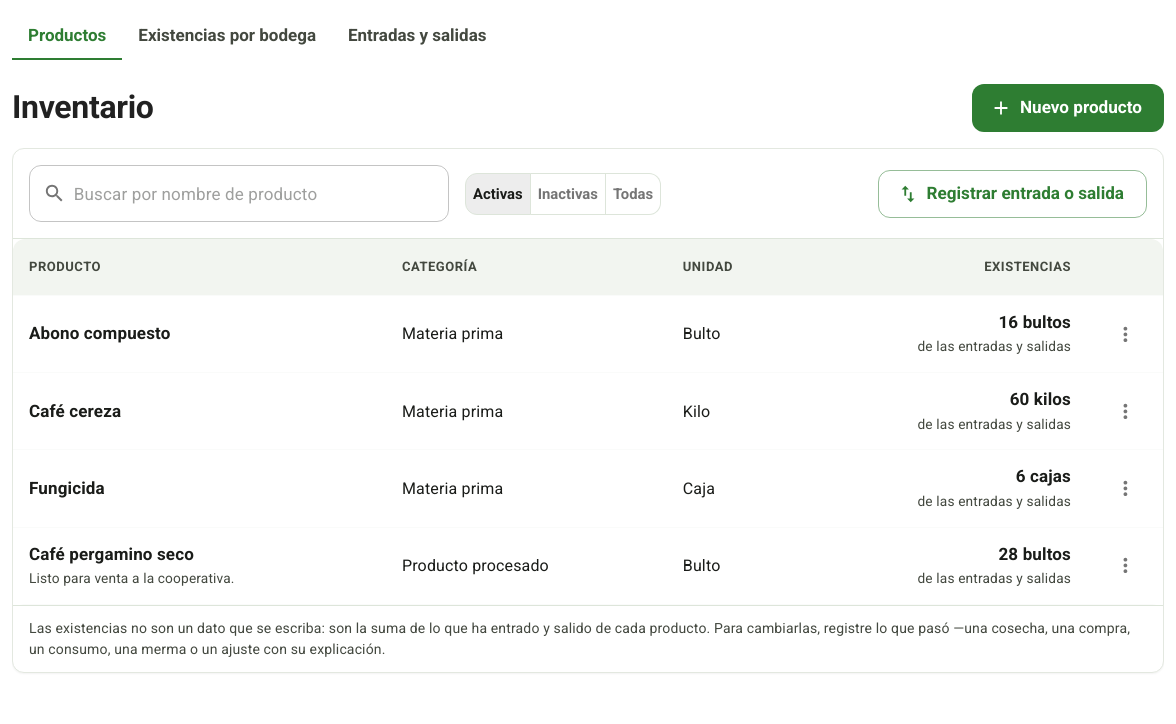
Test: the ins and outs › says why a correction was refused
expect the text "Café pergamino seco" is shown: met, box [29,544,194,564]
Click the tab "Entradas y salidas" at x=417, y=36, box [332,12,502,60]
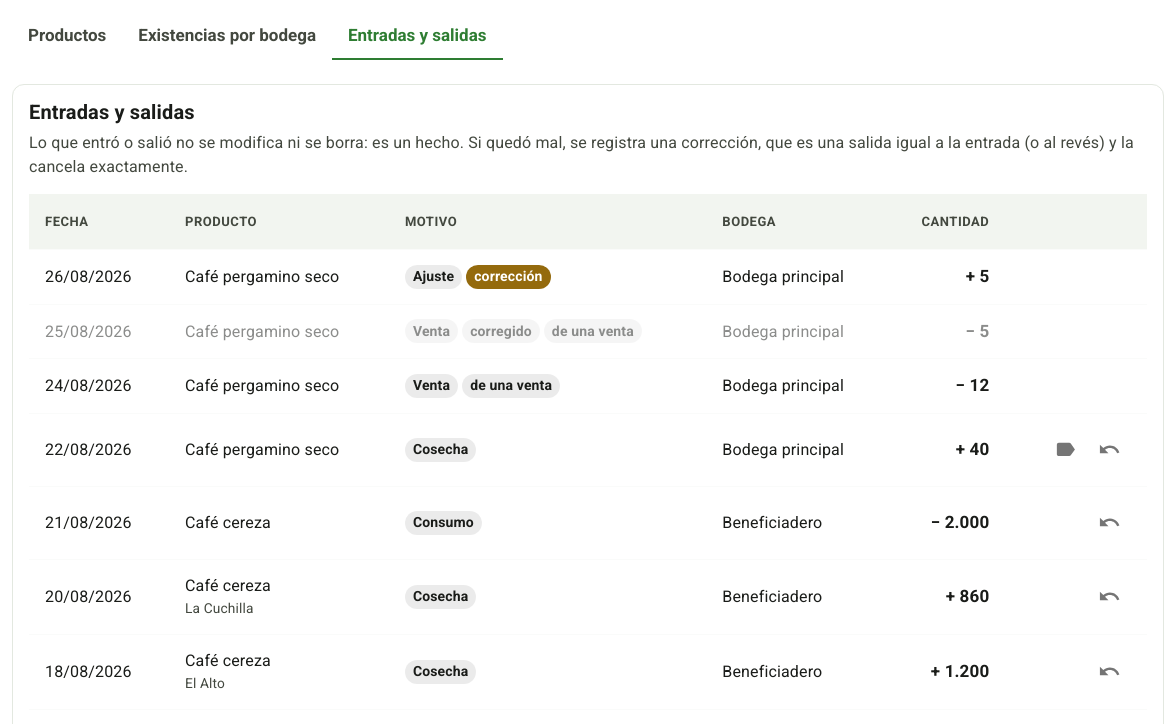
Click the button named "Corregir la entrada o salida" at x=1109, y=450, box [1087,428,1131,472]
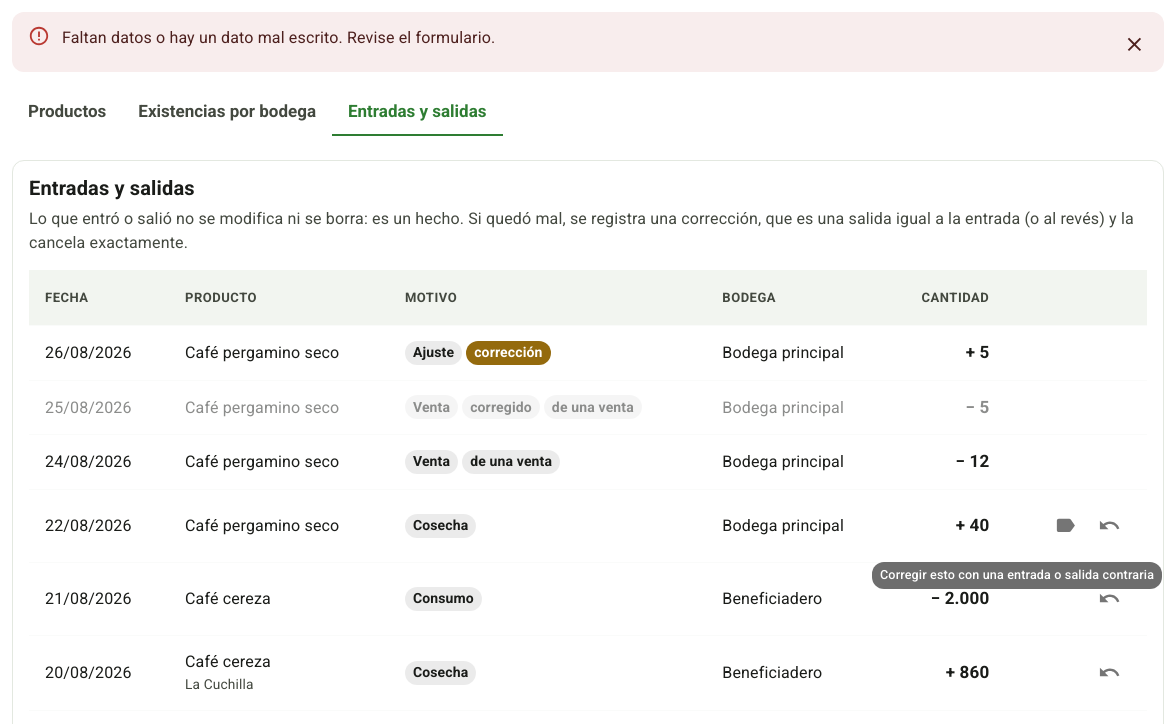
expect the message "Faltan datos o hay un dato mal escrito. Revise el formulario." is shown: met, box [12,12,1164,72]
